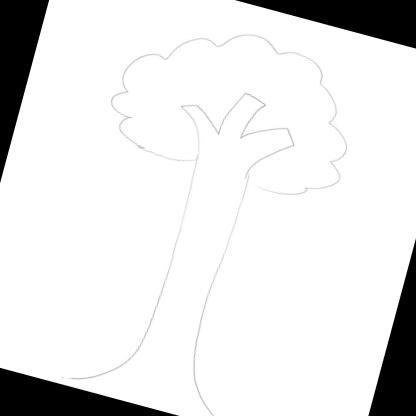branch_cut: (173, 74, 306, 172)
crown_cloud: (87, 0, 373, 211)
trunk_straight: (138, 198, 241, 355)
